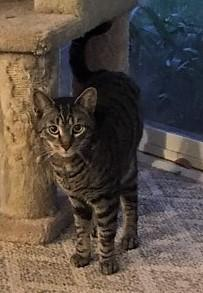bengal: (30, 87, 102, 161)
